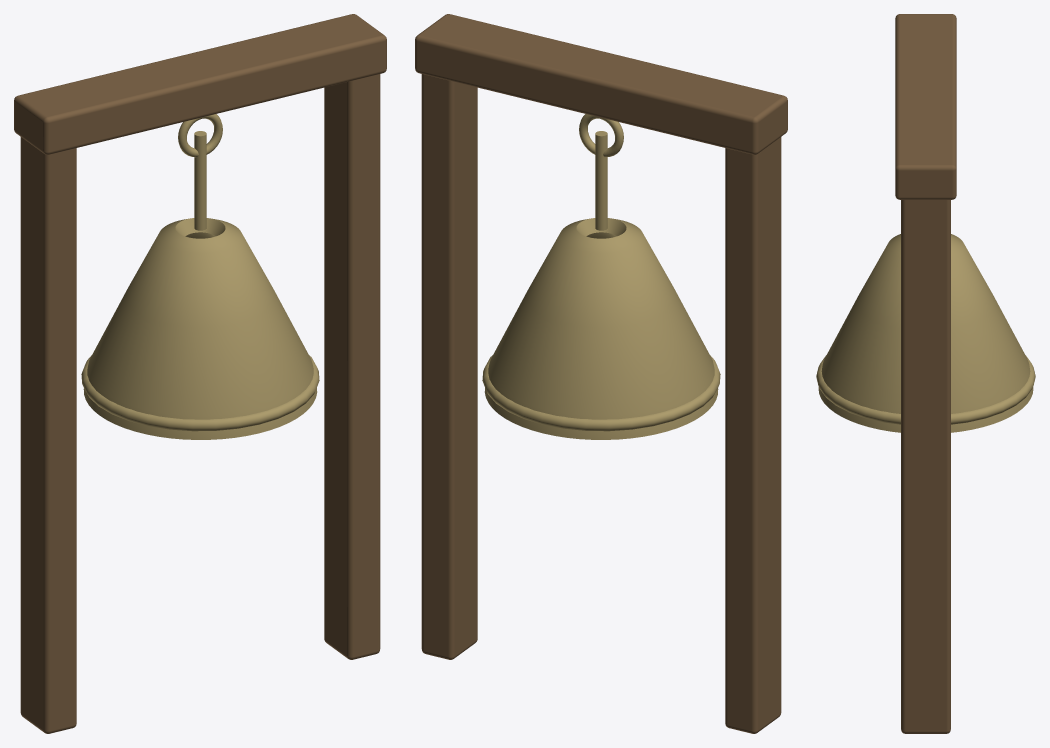
File: water-clock-garden-and-hydraulic-puzzles-suspended-hou-a76b67f4__31940.glb
3 views of the same model, side by side, from view 1: azimuth 30°, elevation 25°; view 2: azimuth 150°, elevation 25°; view 3: azimuth 270°, elevation 25° (orthographic). The views are drawn at different scales.
Visible parts, largest first — view 1: suspended-hour-bell; view 2: suspended-hour-bell; view 3: suspended-hour-bell.
Boxes of the visible parts, x1,y1,x2,y2 form: suspended-hour-bell: [14, 14, 386, 733]; suspended-hour-bell: [415, 14, 787, 733]; suspended-hour-bell: [816, 14, 1035, 733].
Size of the model in its own units: 0.9501 by 1.64 by 0.572.
